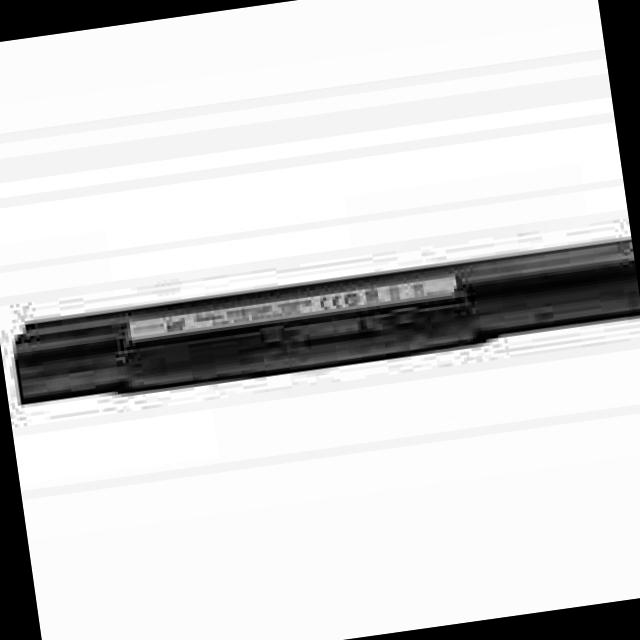Battery: (0, 230, 640, 427)
